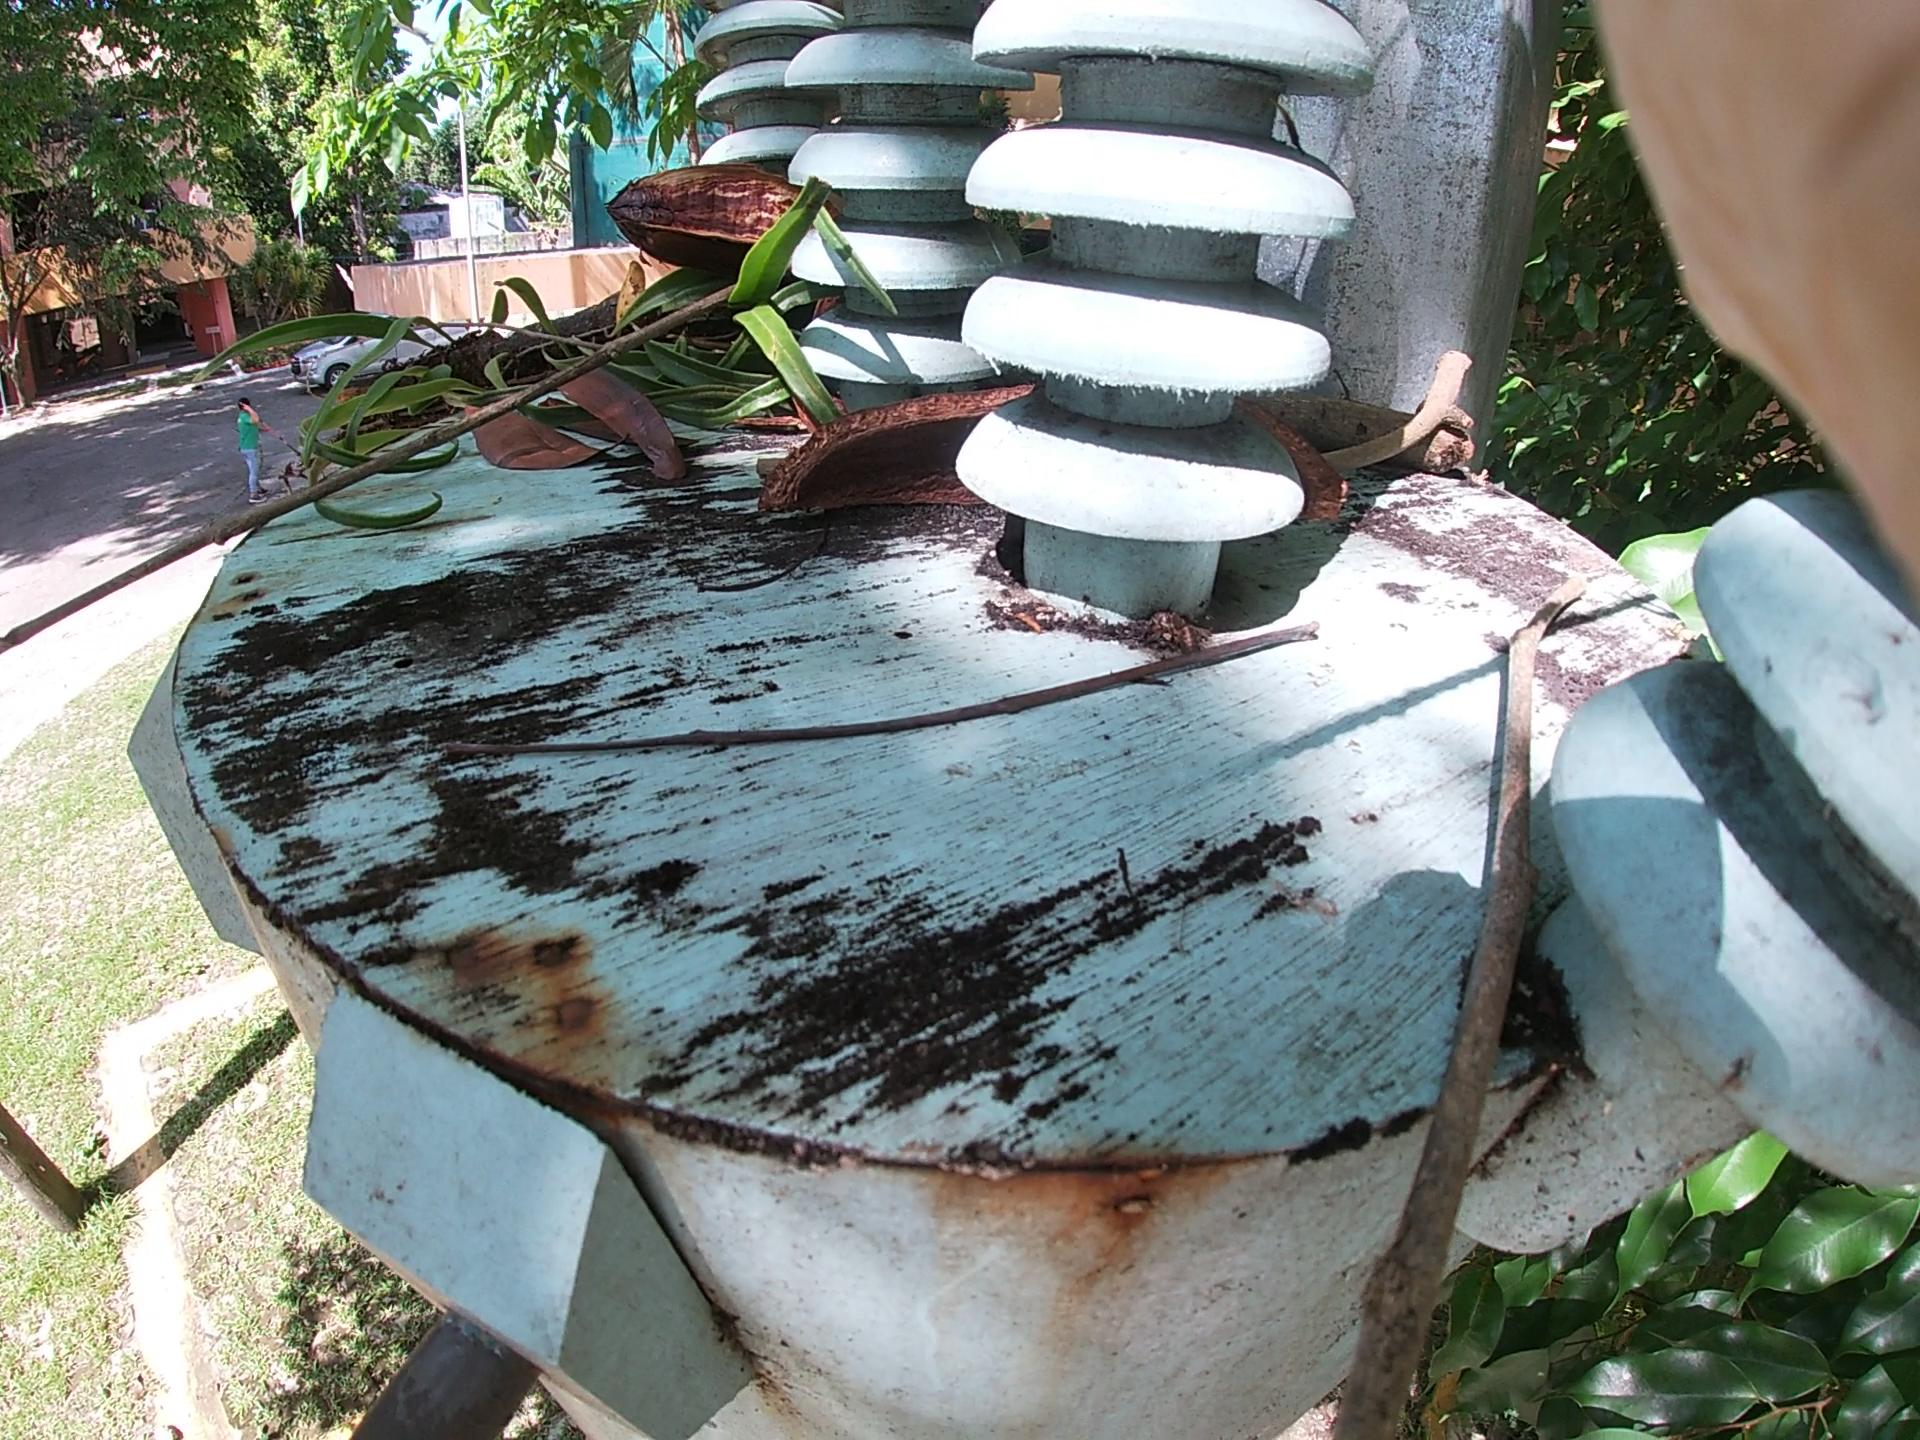branch with leaves: (212, 186, 794, 421)
leaf: (461, 333, 711, 424)
mahogany fruit: (703, 351, 1370, 537), (609, 86, 1030, 313)
tree branch: (150, 272, 821, 594), (1379, 493, 1603, 1392), (441, 601, 1312, 726), (1249, 315, 1439, 502)
